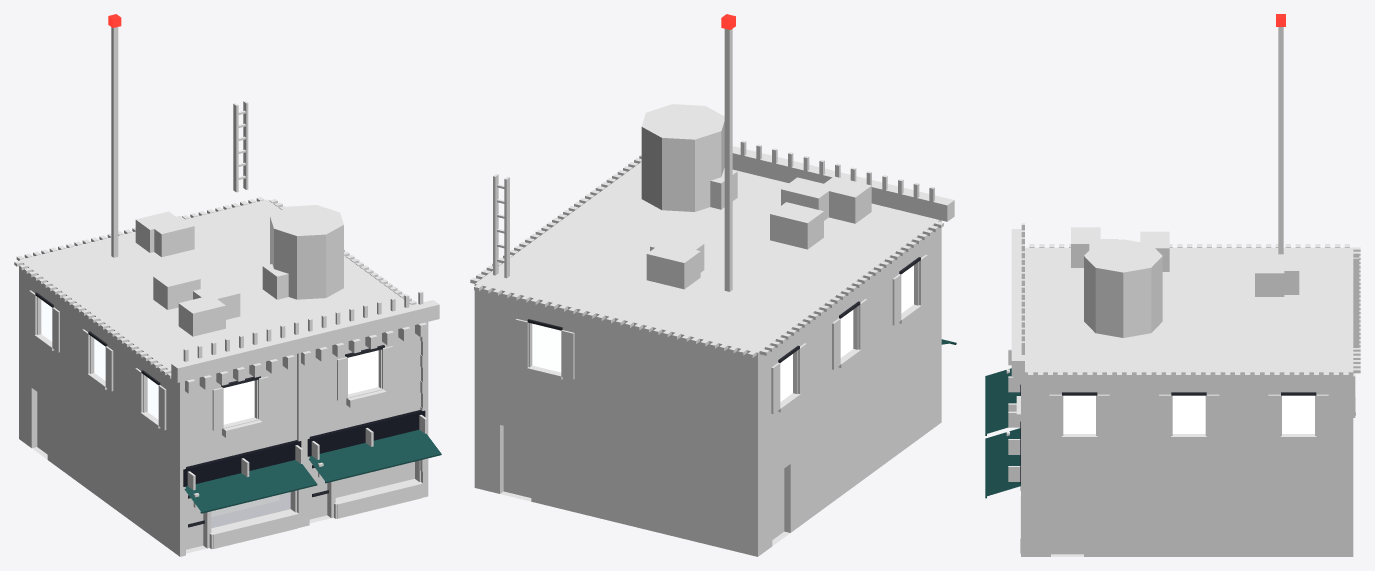
Rendered from bld_market_01_b.glb.
3 views of the same model, side by side, from view 1: azimuth 30°, elevation 25°; view 2: azimuth 150°, elevation 25°; view 3: azimuth 270°, elevation 25° (orthographic). The views are drawn at different scales.
Visible parts, largest first — view 1: LOD0; view 2: LOD0; view 3: LOD0.
Part boxes in pixels (box(x1,y1,x2,y2)): LOD0: box(14, 14, 441, 556); LOD0: box(470, 14, 956, 556); LOD0: box(985, 14, 1360, 556).
Size of what is drawn, in the model's own units: 9.5 by 15 by 11.42.
